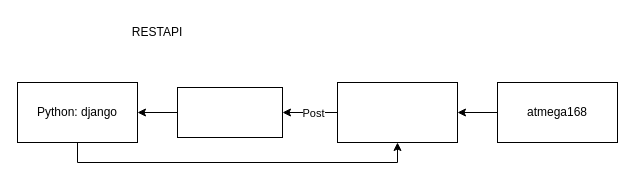
The diagram is 635 pixels wide and 188 high, and some of its shapes have lost their labels. Here are the shapes that lost their labels. From the top down, the centre of each, then its label:
At point (229, 112): "request queue".
At point (397, 112): "c program".
